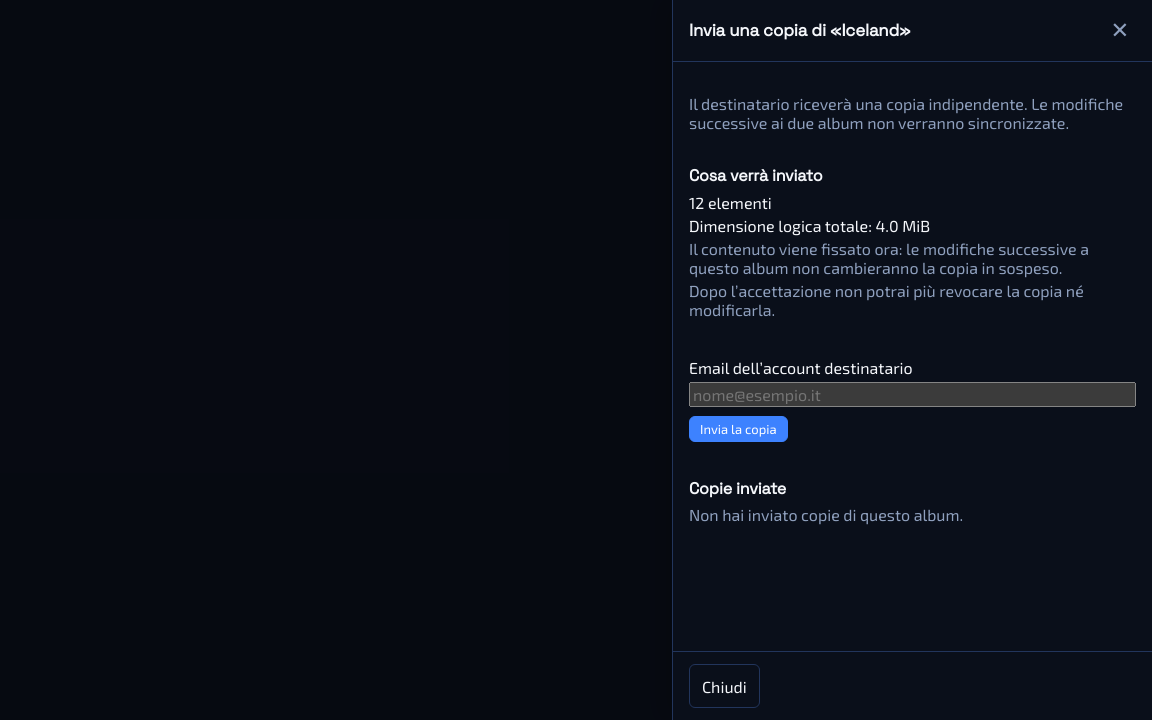
it: sender panel › explains the recipient_is_sender refusal
The image size is (1152, 720).
Check: the button with test id "album-copy-send" is shown, box [689,416,788,442]
Type "x@example.com" into the field with test id "album-copy-email" at [912, 394], box [689,382,1136,407]
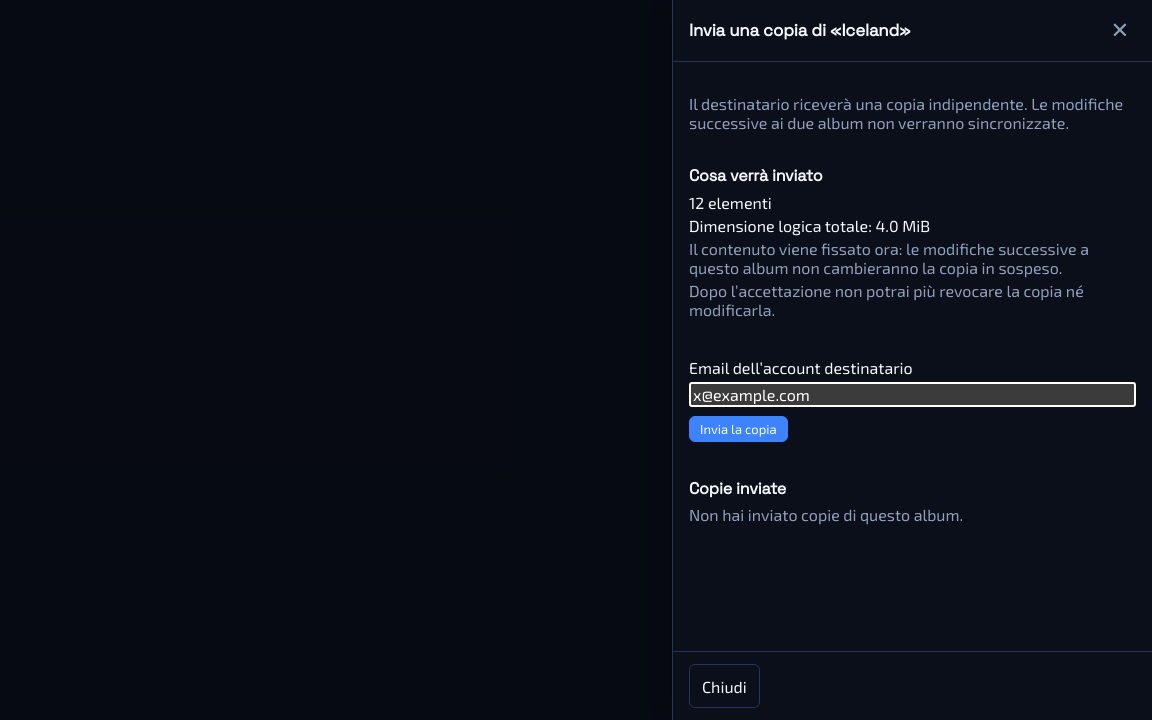
Click the button with test id "album-copy-send" at [738, 429], box [689,416,788,442]
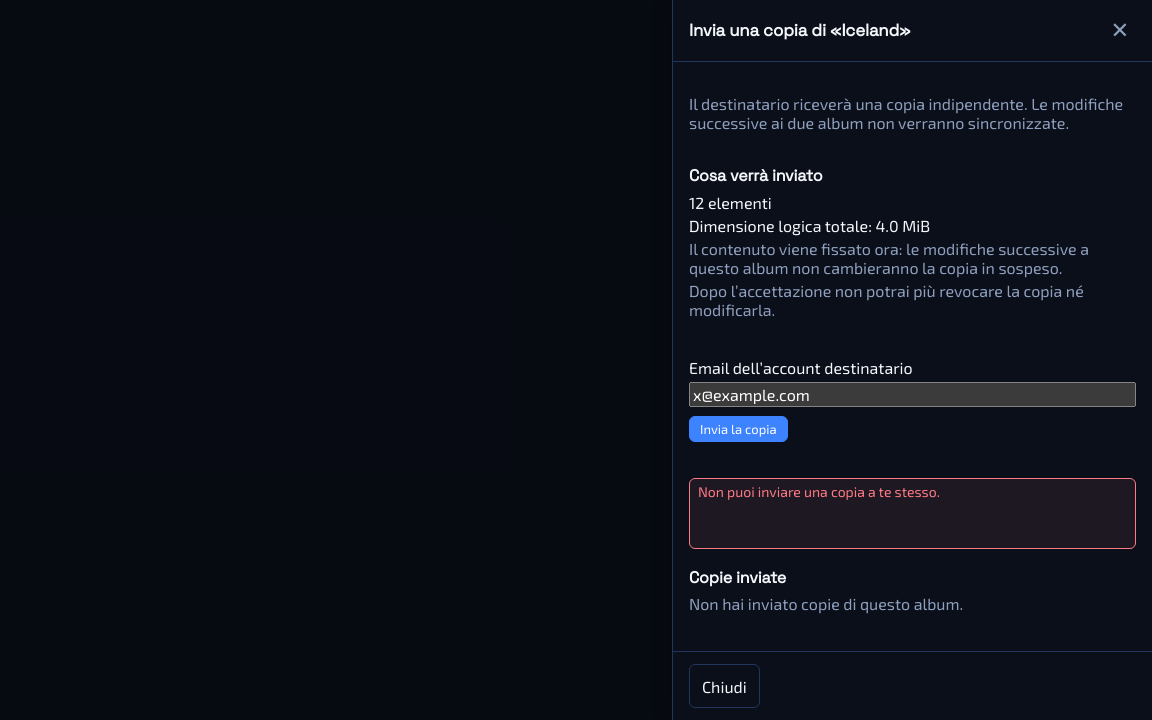
Check: the message with test id "album-copy-error" shows "inviare una copia a te stesso", box [698,483,940,500]
